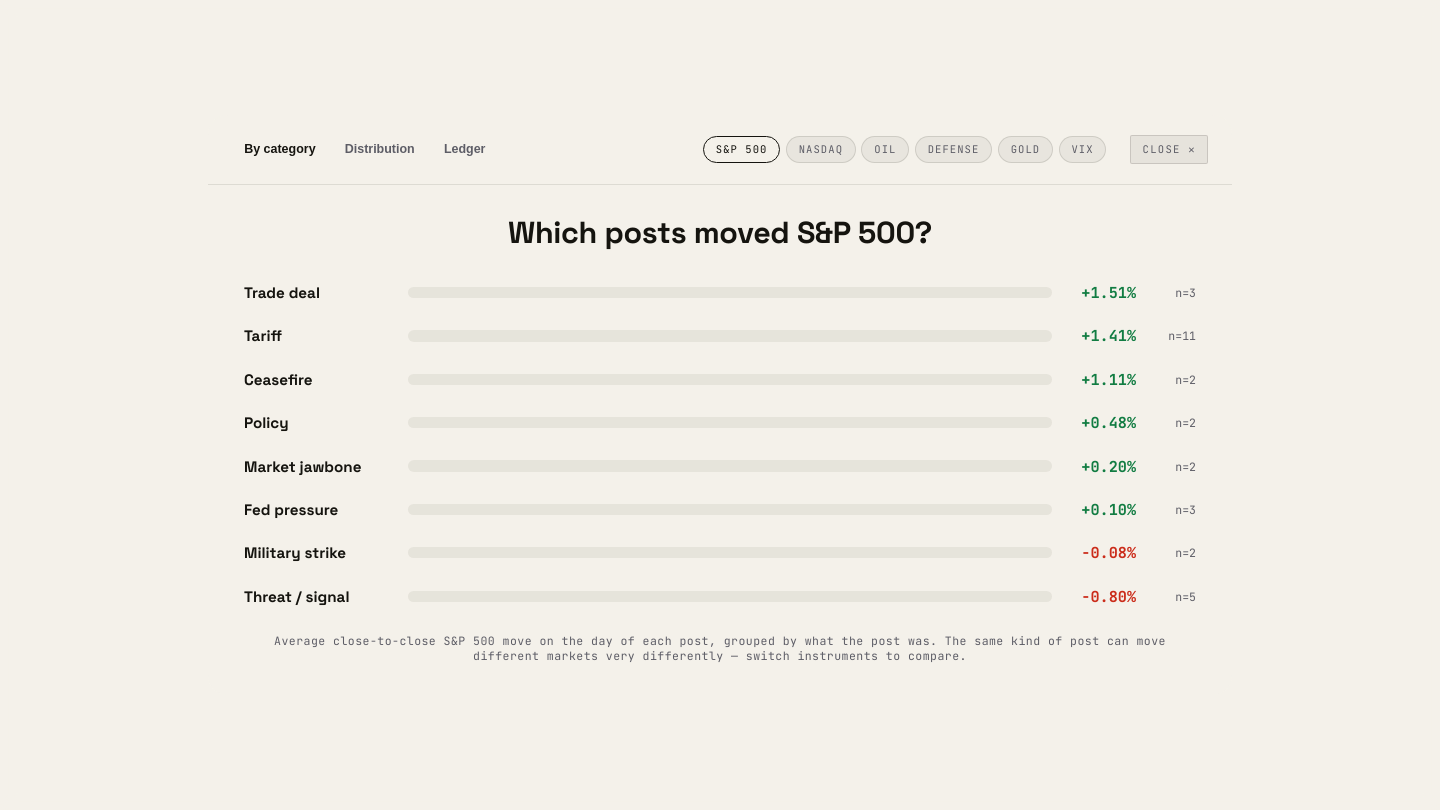
Test: BreakdownZoom › re-titles the category view when the instrument switcher changes
The image size is (1440, 810).
Expected: the heading "Which posts moved S&P 500?" is shown, [508,213,932,252]
Click the button "Oil": (885, 149) [862,136,909,163]
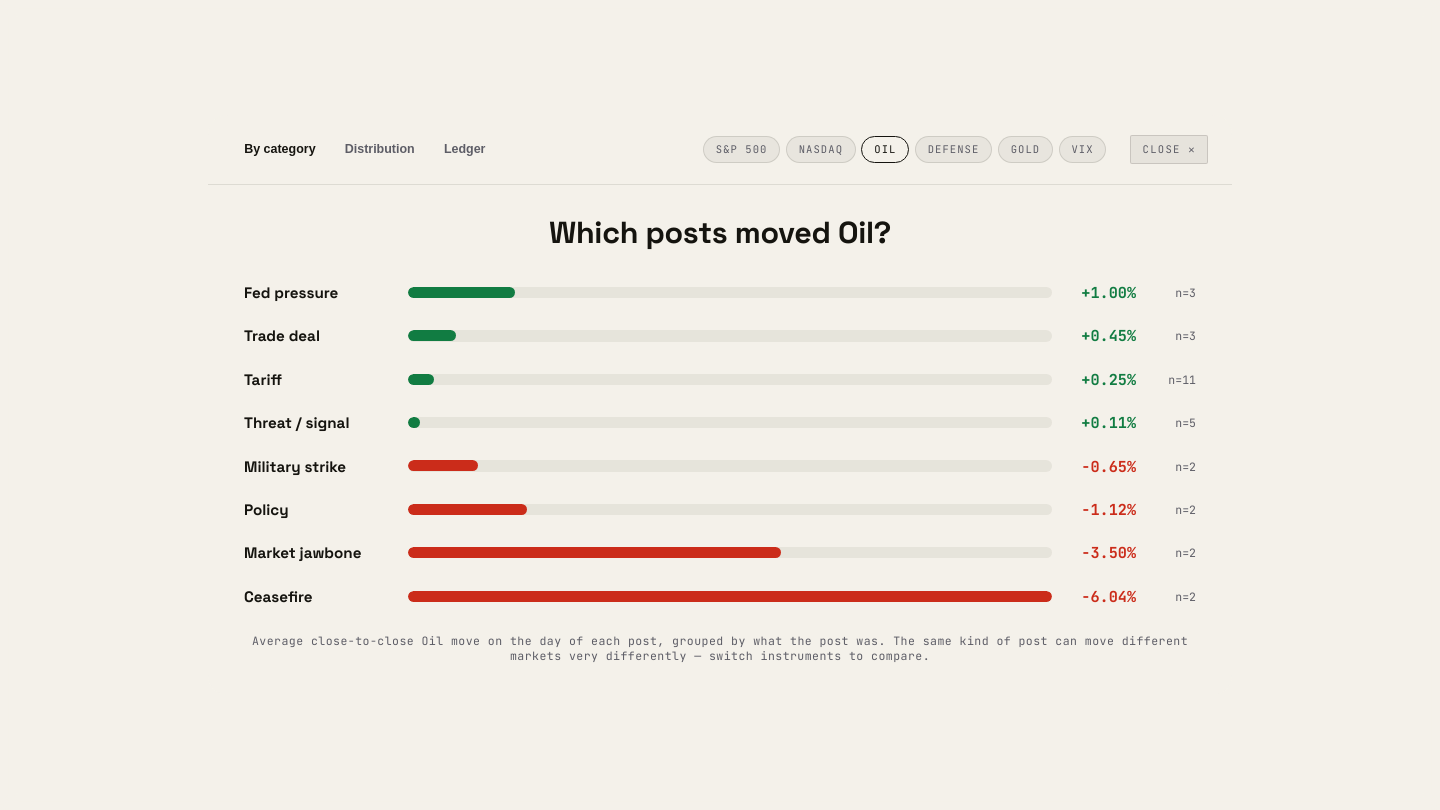
Result: the heading "Which posts moved Oil?" is shown at [549,213,891,252]
